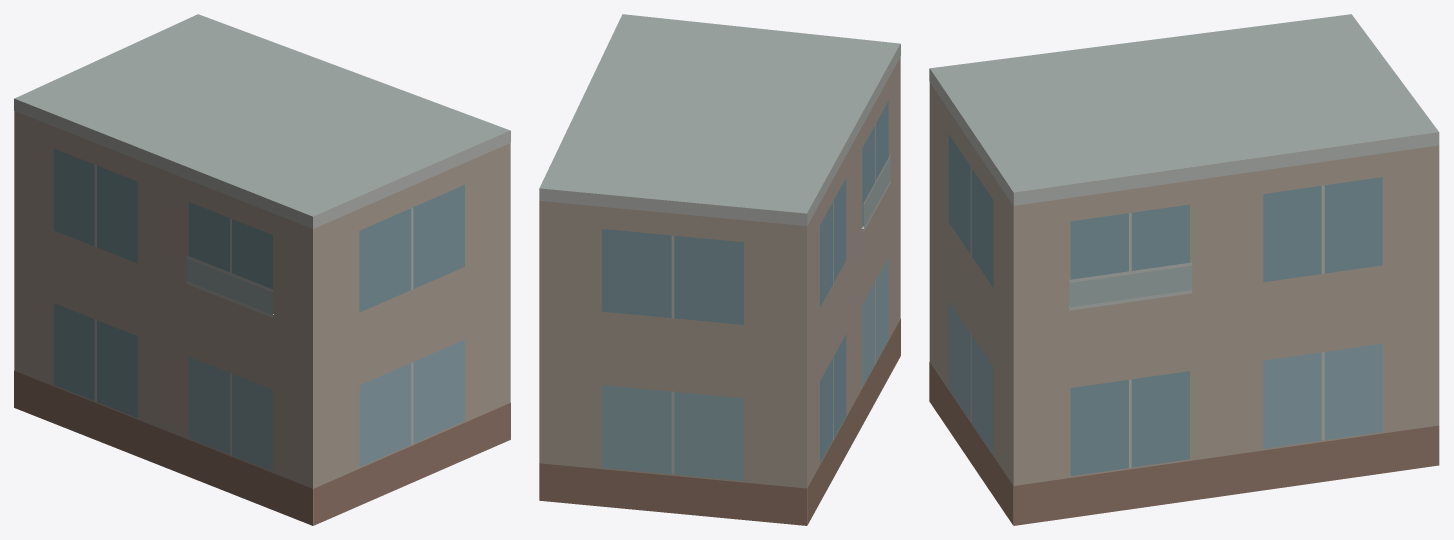
Rendered from survey-upis-32462271.glb.
3 views of the same model, side by side, from view 1: azimuth 30°, elevation 25°; view 2: azimuth 150°, elevation 25°; view 3: azimuth 270°, elevation 25° (orthographic). The views are drawn at different scales.
Parts seen in each view (by area): view 1: survey-upis-32462271.tmp; view 2: survey-upis-32462271.tmp; view 3: survey-upis-32462271.tmp.
Boxes of the visible parts, x1,y1,x2,y2 form: survey-upis-32462271.tmp: (14,14,510,525); survey-upis-32462271.tmp: (539,14,900,525); survey-upis-32462271.tmp: (929,14,1439,525).
Size of the model in its own units: 7.02 by 6.1 by 8.47.
